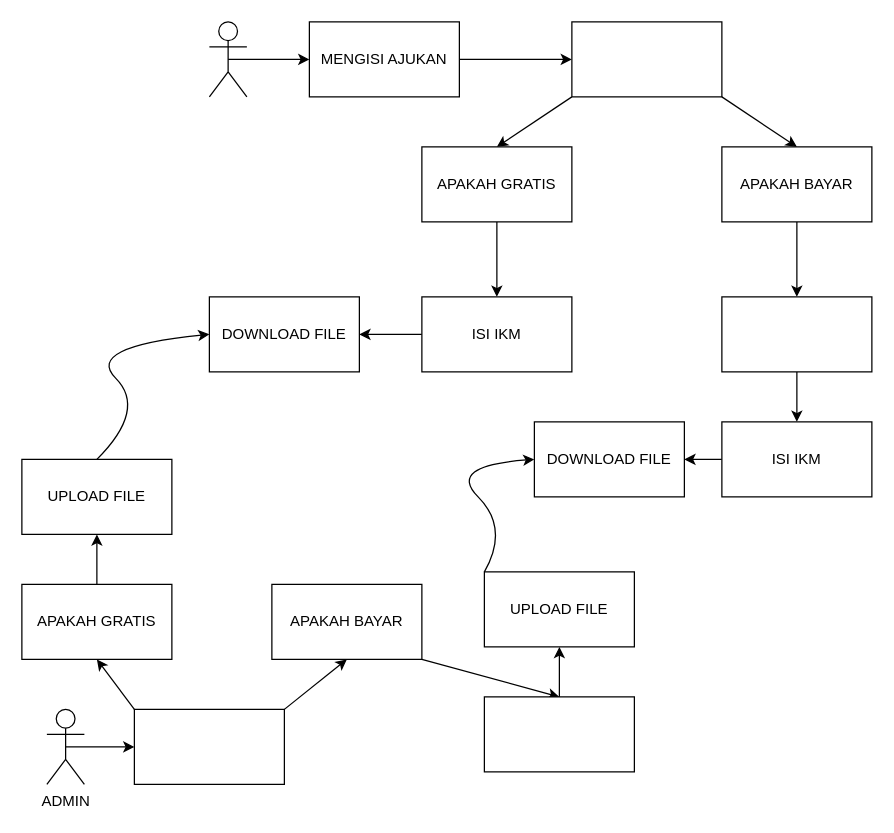
Some shapes in this 894 by 833 pixel diagram are drawn without their labels. Each missing label, with the centre of its shape:
"CEK MANUAL REKENING" belongs at pixel 558 734.
"MEMBELI PRODUK" belongs at pixel 646 59.
"MEMBERI PRODUK" belongs at pixel 208 746.
"PENGGUNA" belongs at pixel 227 59.
"TRANSFER" belongs at pixel 796 334.
